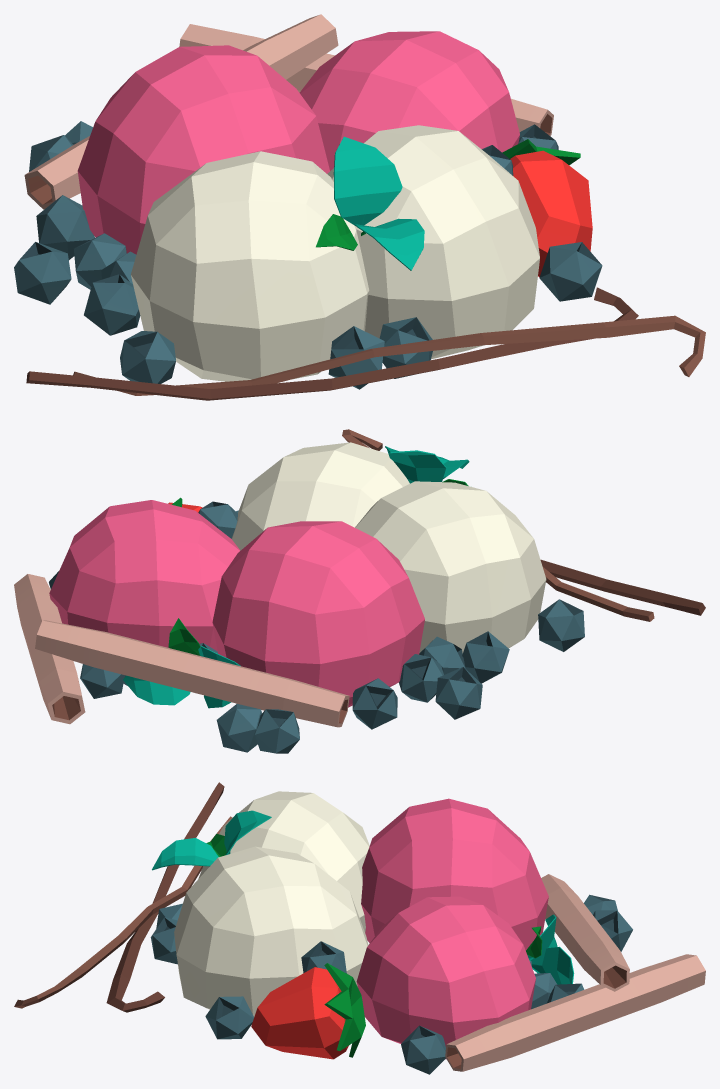
File: ice_cream_dish_001.obj
The picture shows the model from 3 angles, top to bottom: view 1: azimuth 30°, elevation 25°; view 2: azimuth 150°, elevation 25°; view 3: azimuth 270°, elevation 25°; orthographic projection. The views are drawn at different scales.
Visible parts, largest first — view 1: ice_cream_dish_001; view 2: ice_cream_dish_001; view 3: ice_cream_dish_001.
Part boxes in pixels (x1,y1,x2,y2): ice_cream_dish_001: (14, 14, 705, 400); ice_cream_dish_001: (14, 429, 705, 753); ice_cream_dish_001: (14, 782, 705, 1074).
Size of the model in its own units: 0.1931 by 0.0576 by 0.22.
